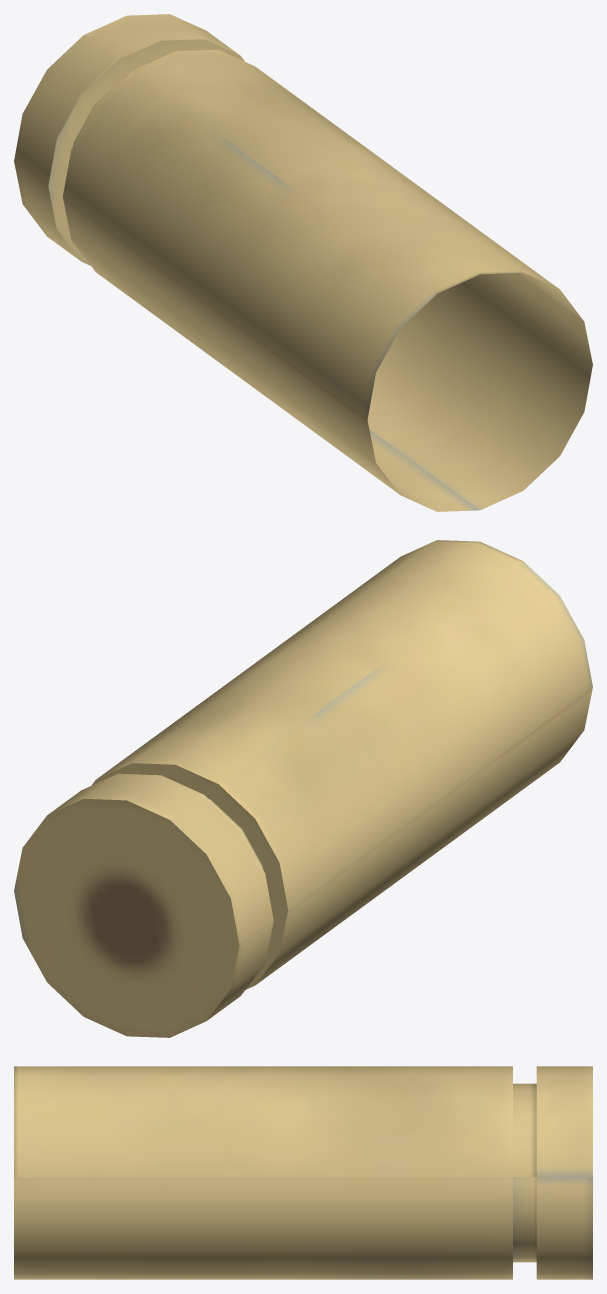
Rendered from Bullet.fbx.
The picture shows the model from 3 angles, top to bottom: view 1: azimuth 30°, elevation 25°; view 2: azimuth 150°, elevation 25°; view 3: azimuth 270°, elevation 25°; orthographic projection. The views are drawn at different scales.
Visible parts, largest first — view 1: Bullet; view 2: Bullet; view 3: Bullet.
Part boxes in pixels (left/top/right/bottom): Bullet: left=14, top=14, right=592, bottom=511; Bullet: left=14, top=540, right=592, bottom=1037; Bullet: left=14, top=1066, right=592, bottom=1279.
Bounding box in the file's own units: 29.58 × 29.58 × 80.31.
